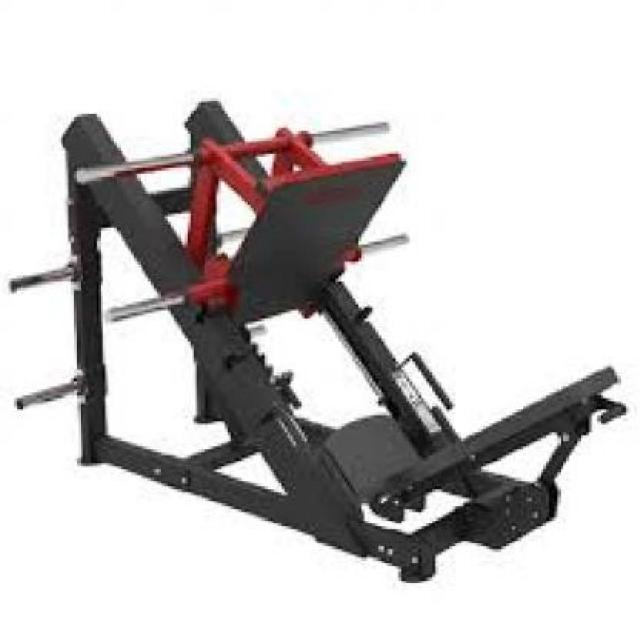leg press: (5, 86, 637, 597)
